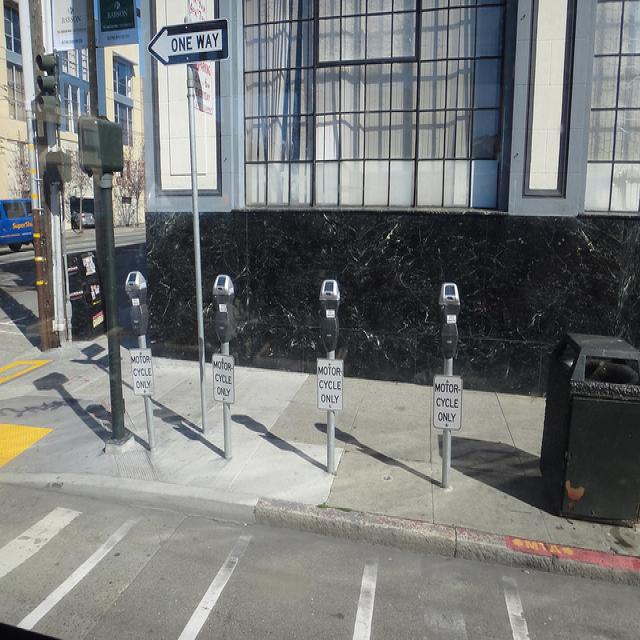Vehicle: (1, 196, 32, 252), (71, 208, 95, 229)
